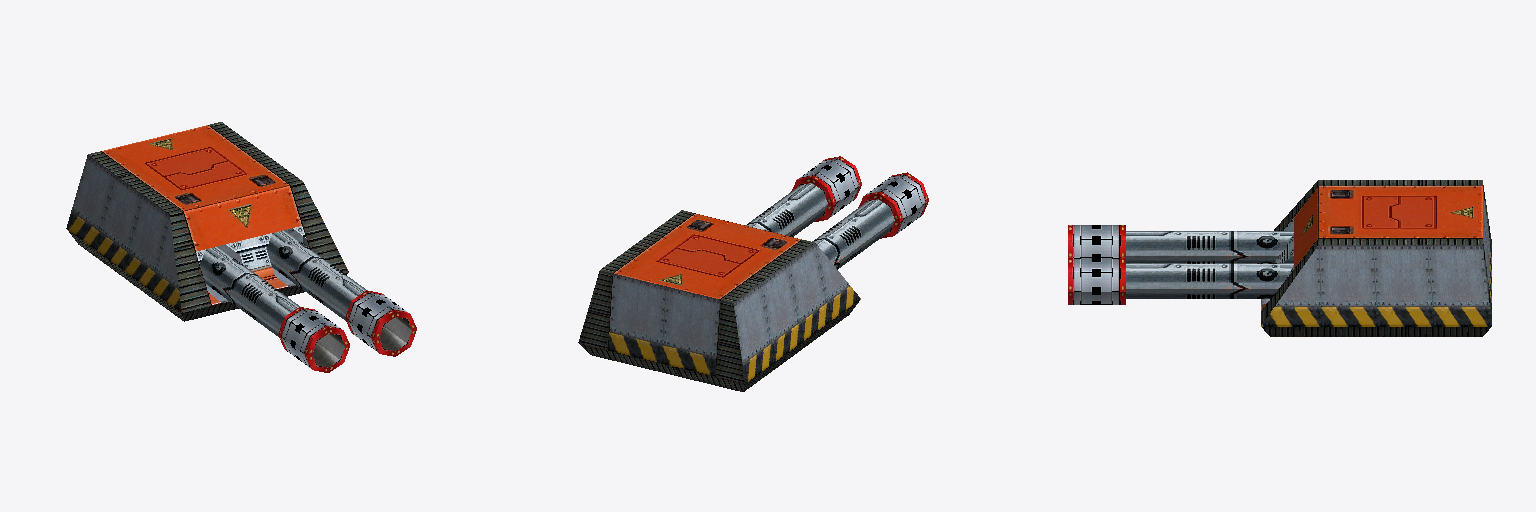
3 renders of one model, left to right at view 1: azimuth 30°, elevation 25°; view 2: azimuth 150°, elevation 25°; view 3: azimuth 270°, elevation 25°, orthographic.
Parts seen in each view (by area): view 1: CannonTwin; view 2: CannonTwin; view 3: CannonTwin.
Part boxes in pixels (x1,y1,x2,y2): CannonTwin: (66,122,416,372); CannonTwin: (578,156,928,391); CannonTwin: (1068,180,1491,336).
Bounding box in the file's own units: 5 × 2.5 × 11.
5 materials, 5 textured.